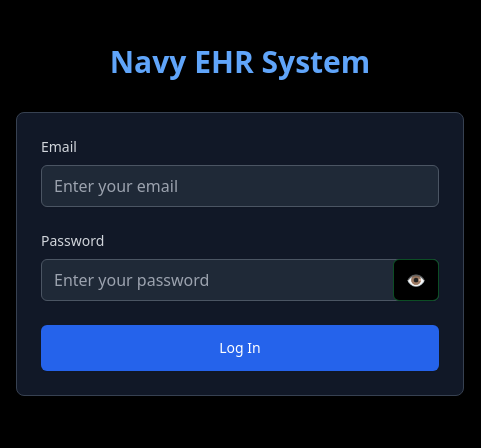
Test case: Login.vue › shows error on failed login
Type "fail@example.com" into the field with id "email".
click(240, 186); type("fail@example.com")  # box x1=41 y1=165 x2=439 y2=207
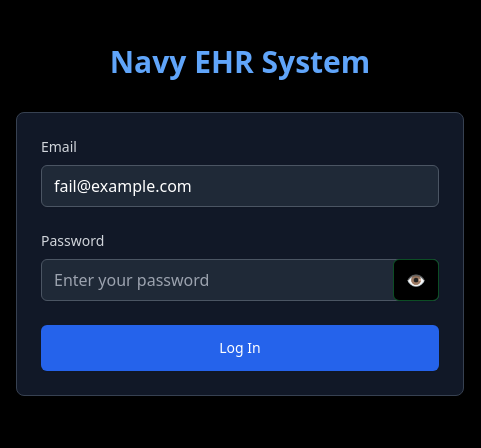
Type "wrong" into the password field labelled "Password".
click(240, 280); type("wrong")  # box x1=41 y1=259 x2=439 y2=301
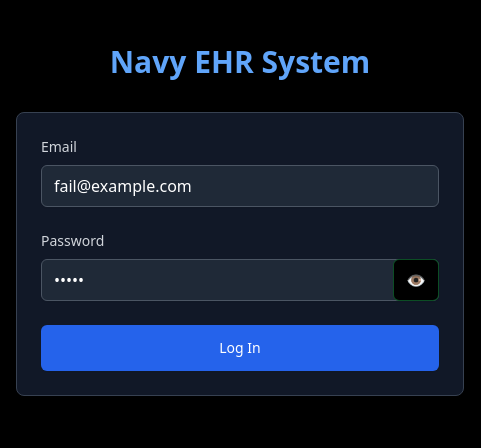
Submit the form, box x1=41 y1=137 x2=439 y2=371
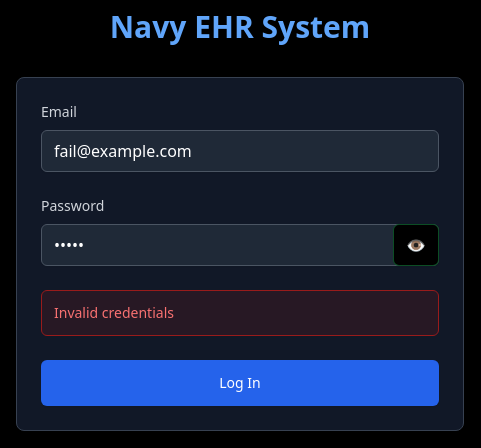
Check: the text "Invalid credentials" is shown, box x1=41 y1=290 x2=439 y2=336
